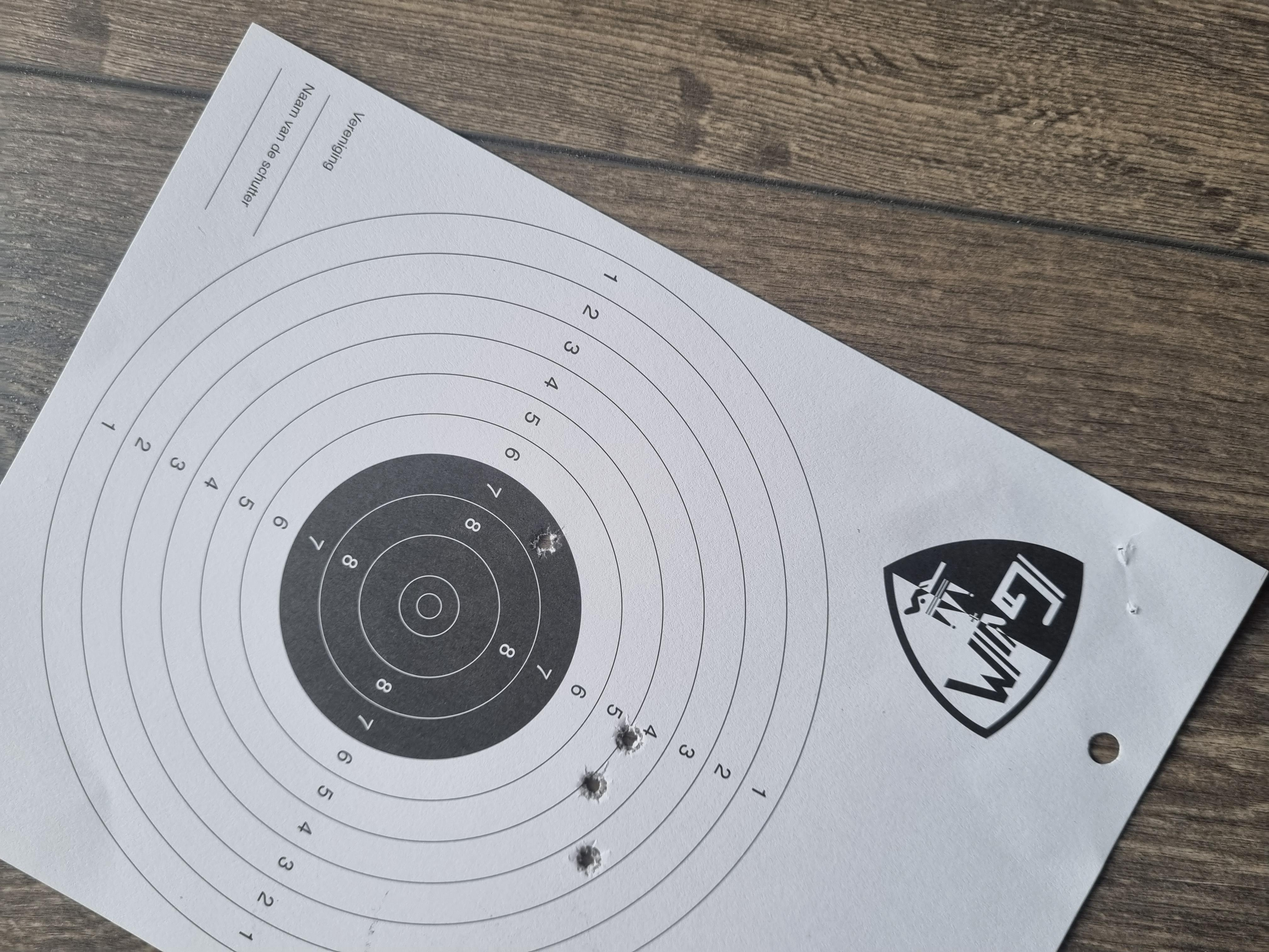hole: (100, 427, 151, 452), (198, 433, 250, 457), (262, 460, 316, 482), (524, 398, 568, 422)
